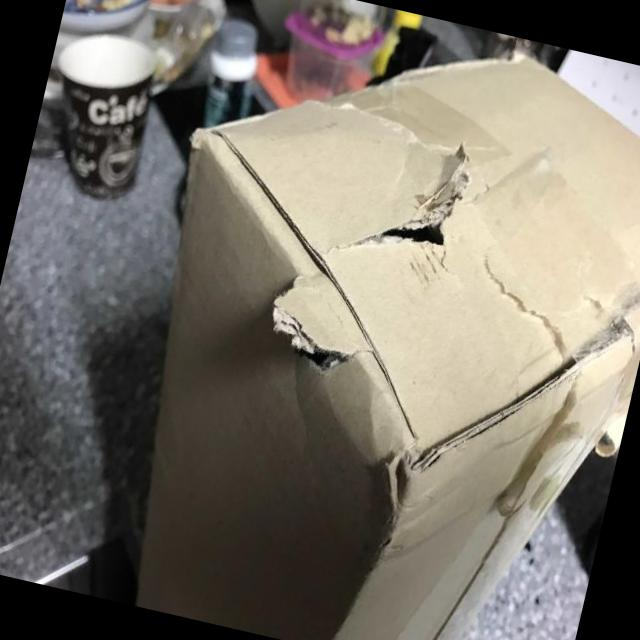box: (20, 14, 597, 640)
tear: (53, 138, 273, 232), (478, 245, 582, 438)
